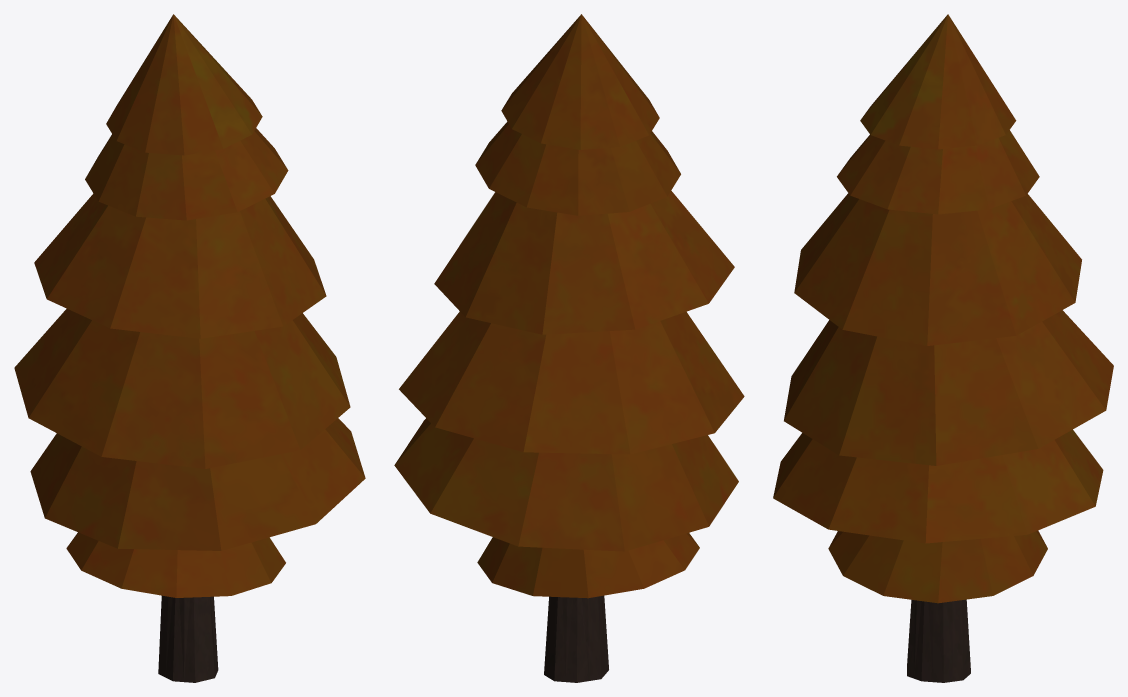
File: tree-green-red-flowers_2.fbx
The picture shows the model from 3 angles, left to right: view 1: azimuth 30°, elevation 25°; view 2: azimuth 150°, elevation 25°; view 3: azimuth 270°, elevation 25°; orthographic projection.
Visible parts, largest first — view 1: Cylinder.028; view 2: Cylinder.028; view 3: Cylinder.028.
Boxes of the visible parts, <box> form: Cylinder.028: <box>14,14,365,682</box>; Cylinder.028: <box>394,14,744,682</box>; Cylinder.028: <box>773,14,1113,682</box>.
Bounding box in the file's own units: 115 × 237 × 112.
